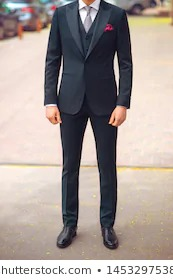F_dress pants: (59, 92, 121, 230)
